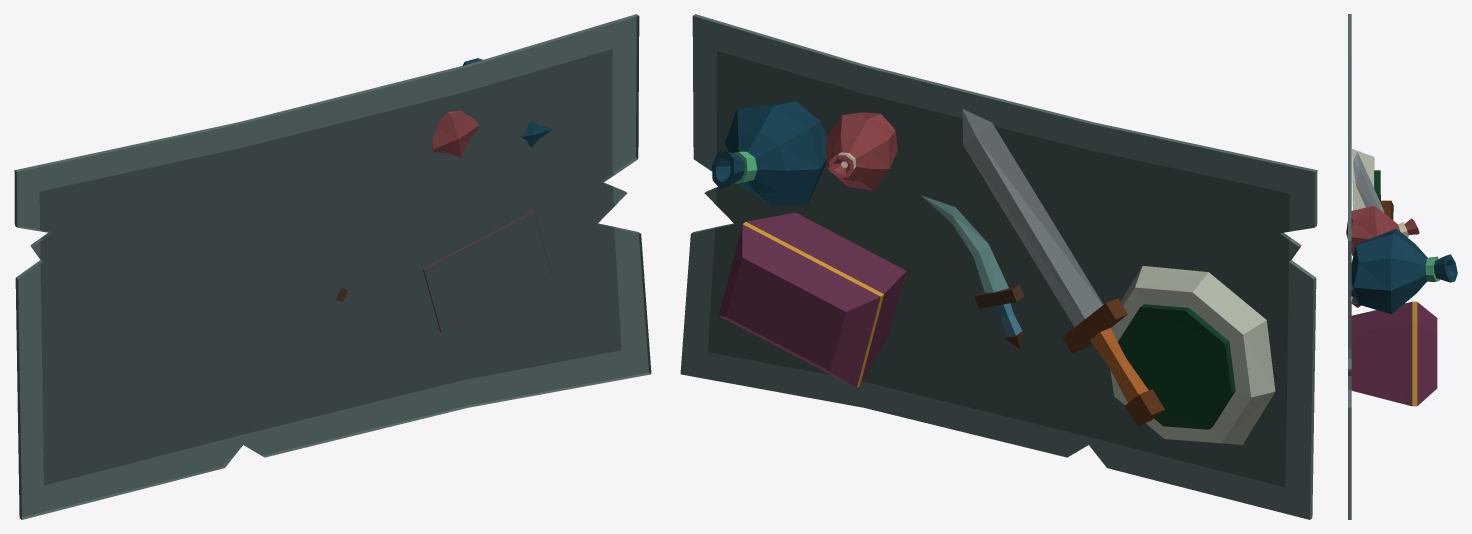
Rendered from Carpet Shop 01.FBX.
3 renders of one model, left to right at view 1: azimuth 30°, elevation 25°; view 2: azimuth 150°, elevation 25°; view 3: azimuth 270°, elevation 25°, orthographic. The views are drawn at different scales.
Visible parts, largest first — view 1: Carpet Shop 01; view 2: Carpet Shop 01; view 3: Carpet Shop 01.
Boxes of the visible parts, x1,y1,x2,y2 form: Carpet Shop 01: (14,14,651,519); Carpet Shop 01: (680,14,1317,519); Carpet Shop 01: (1346,14,1457,519).
Size of the model in its own units: 294 by 59.08 by 160.
